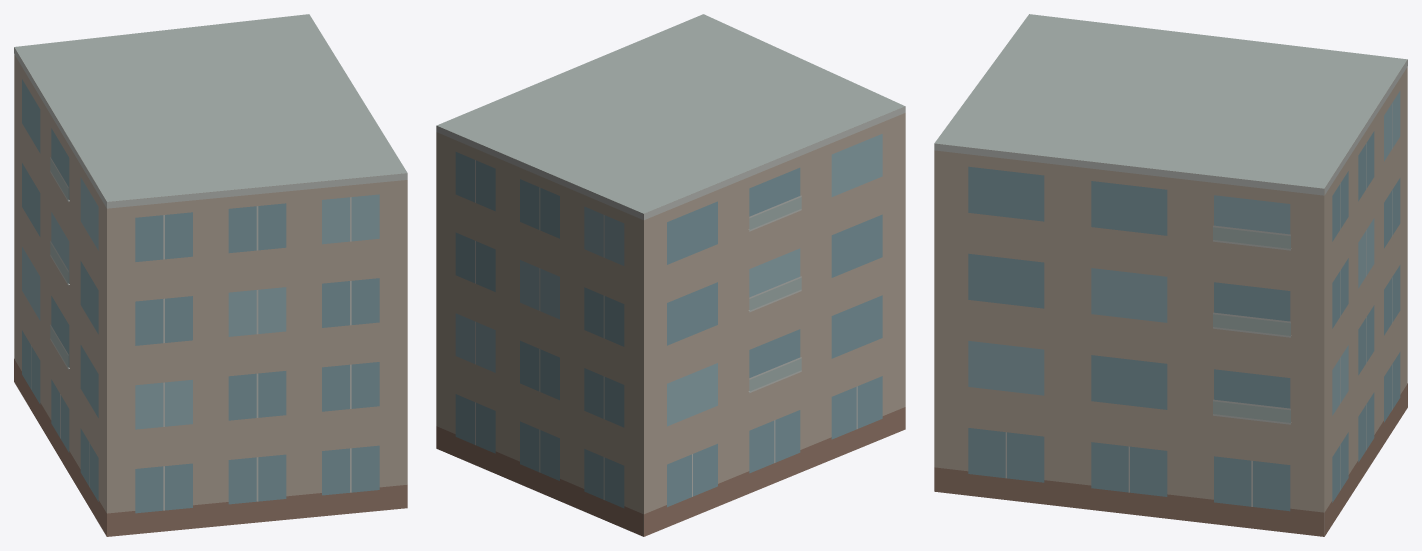
The model's file is survey-upis-32705353.glb.
3 views of the same model, side by side, from view 1: azimuth 30°, elevation 25°; view 2: azimuth 150°, elevation 25°; view 3: azimuth 270°, elevation 25° (orthographic). The views are drawn at different scales.
Parts seen in each view (by area): view 1: survey-upis-32705353.tmp; view 2: survey-upis-32705353.tmp; view 3: survey-upis-32705353.tmp.
Boxes of the visible parts, box(x1,y1,x2,y2) form: survey-upis-32705353.tmp: box(14, 14, 407, 536); survey-upis-32705353.tmp: box(436, 14, 905, 536); survey-upis-32705353.tmp: box(934, 14, 1407, 536).
Bounding box in the file's own units: 13.14 × 12.2 × 15.05.
